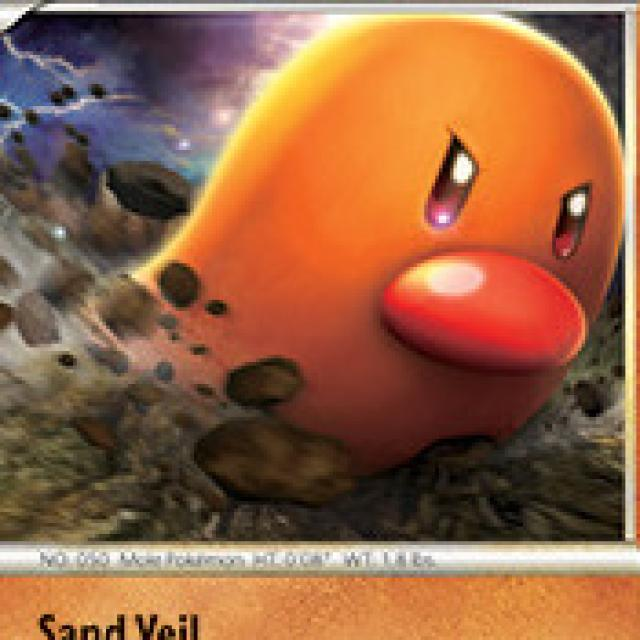Diglett: (150, 4, 620, 447)
